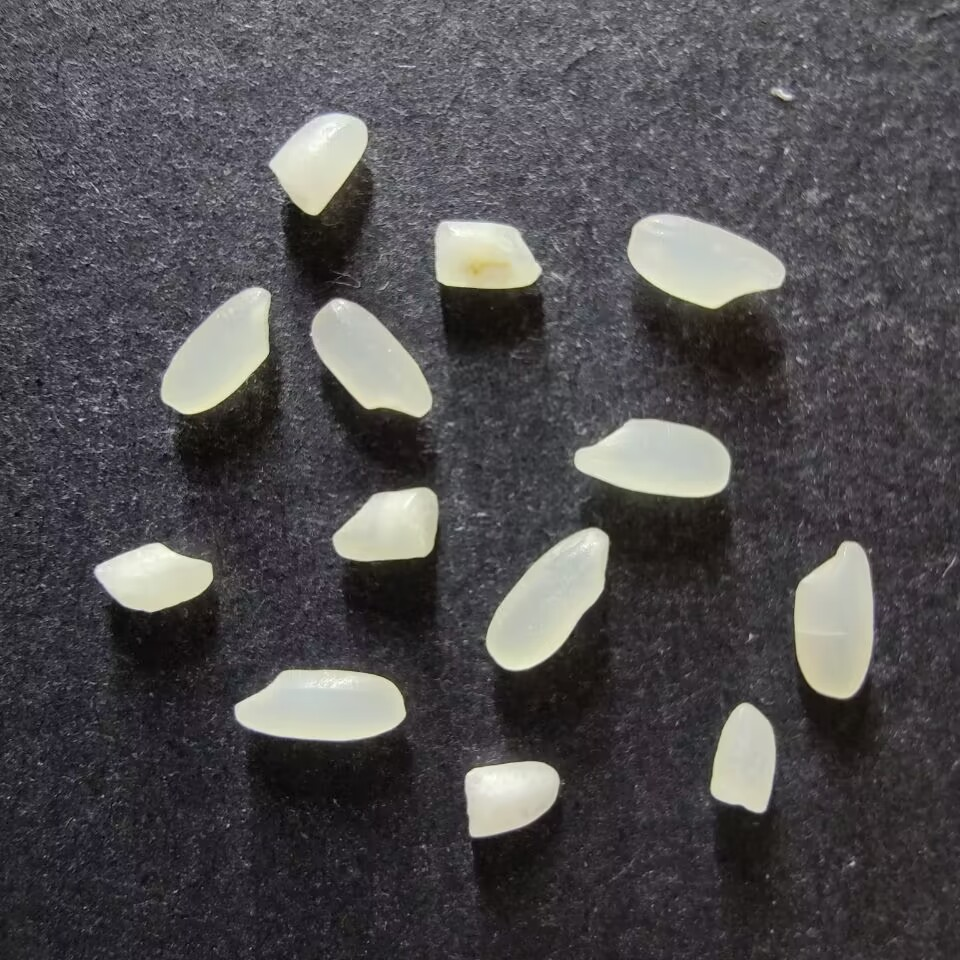broken: (268, 112, 368, 216), (92, 542, 213, 613), (332, 487, 438, 561), (463, 760, 560, 838), (710, 702, 776, 813), (433, 220, 540, 288)
rice: (485, 527, 609, 671), (627, 213, 785, 308), (310, 297, 433, 418), (160, 286, 271, 414), (793, 540, 873, 700), (573, 417, 731, 498), (233, 668, 406, 741)
